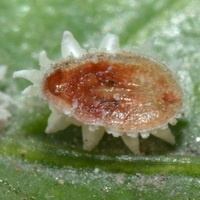insect: (13, 31, 182, 153)
